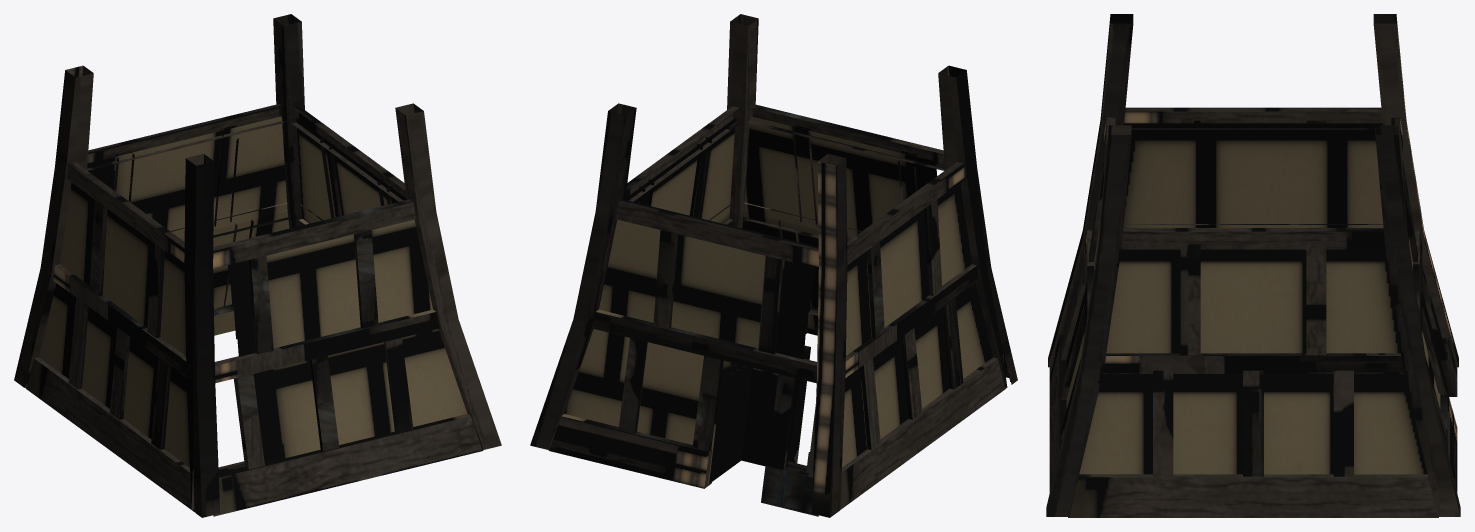
File: MS_Windmill3.fbx
3 views of the same model, side by side, from view 1: azimuth 30°, elevation 25°; view 2: azimuth 150°, elevation 25°; view 3: azimuth 270°, elevation 25° (orthographic). The views are drawn at different scales.
Visible parts, largest first — view 1: Cube.008; view 2: Cube.008; view 3: Cube.008.
Part boxes in pixels (x1=…): Cube.008: x1=14, y1=14, x2=501, y2=517; Cube.008: x1=530, y1=14, x2=1017, y2=517; Cube.008: x1=1046, y1=14, x2=1460, y2=517.
Size of the model in its own units: 760 by 797 by 835.
Materials: 1 (1 with a texture image).
